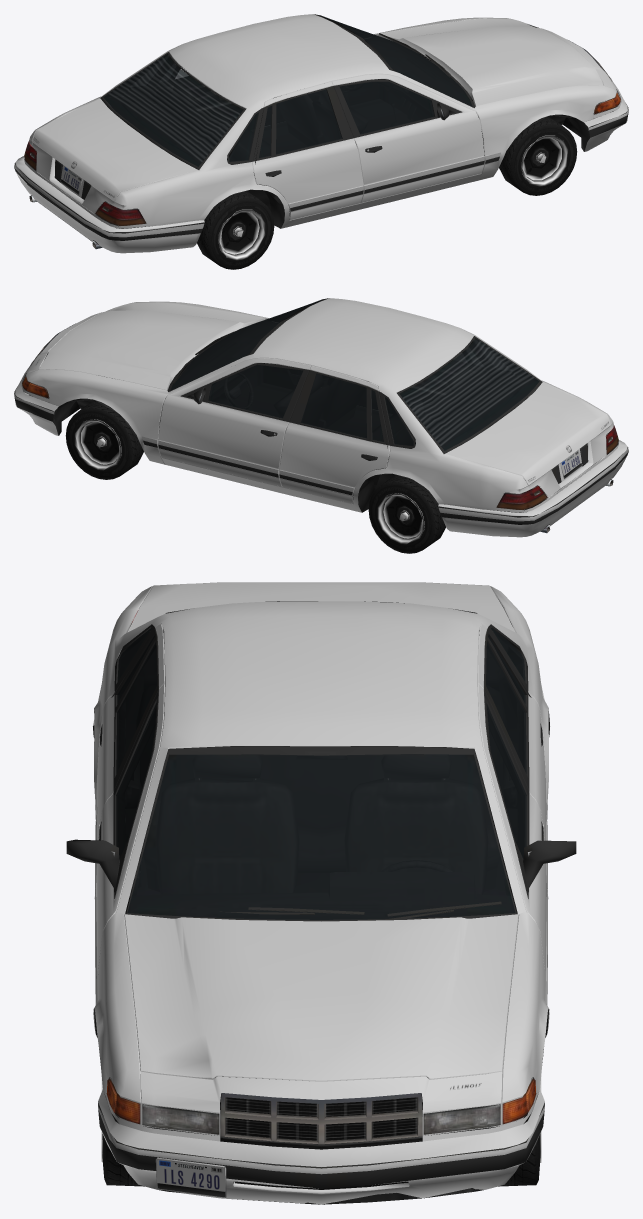
The model's file is car_illinois.glb.
The picture shows the model from 3 angles, top to bottom: view 1: azimuth 30°, elevation 25°; view 2: azimuth 150°, elevation 25°; view 3: azimuth 270°, elevation 25°; orthographic projection. The views are drawn at different scales.
Visible parts, largest first — view 1: Illinois90_Body_Illinois90_Bodymat_0, Illinois90_Headlights_Glass_UCB_Lights_and_Glass_Transperent, Illinois90_Interior_UCB_Interiors_2_0, Illinois90_SUSPENSION_UCB_BOTTOM_0, Illinois90_WheelStock_FL_RB1c_Tire_1k_0, Illinois90_Headlights_UCB_Lights_and_Glass_0, Illinois90_Trunkdoor_Numberplates_Numberplates_Misk_U_0; view 2: Illinois90_Body_Illinois90_Bodymat_0, Illinois90_Headlights_Glass_UCB_Lights_and_Glass_Transperent, Illinois90_Interior_UCB_Interiors_2_0, Illinois90_SUSPENSION_UCB_BOTTOM_0, Illinois90_WheelStock_FL_RB1c_Tire_1k_0, Illinois90_Headlights_UCB_Lights_and_Glass_0, Illinois90_Trunkdoor_Numberplates_Numberplates_Misk_U_0; view 3: Illinois90_Body_Illinois90_Bodymat_0, Illinois90_Headlights_Glass_UCB_Lights_and_Glass_Transperent, Illinois90_Interior_UCB_Interiors_2_0, Illinois90_SUSPENSION_UCB_BOTTOM_0, Illinois90_Headlights_UCB_Lights_and_Glass_0, Illinois90_Trunkdoor_Numberplates_Numberplates_Misk_U_0, Illinois90_WheelStock_FL_RB1c_Tire_1k_0.
Part boxes in pixels (bbox=[...]): Illinois90_Body_Illinois90_Bodymat_0: bbox=[15, 14, 627, 253]; Illinois90_Headlights_Glass_UCB_Lights_and_Glass_Transperent: bbox=[24, 15, 620, 225]; Illinois90_Interior_UCB_Interiors_2_0: bbox=[104, 15, 471, 215]; Illinois90_SUSPENSION_UCB_BOTTOM_0: bbox=[14, 14, 628, 249]; Illinois90_WheelStock_FL_RB1c_Tire_1k_0: bbox=[197, 116, 577, 269]; Illinois90_Headlights_UCB_Lights_and_Glass_0: bbox=[25, 93, 620, 225]; Illinois90_Trunkdoor_Numberplates_Numberplates_Misk_U_0: bbox=[60, 166, 82, 194]; Illinois90_Body_Illinois90_Bodymat_0: bbox=[15, 298, 627, 537]; Illinois90_Headlights_Glass_UCB_Lights_and_Glass_Transperent: bbox=[22, 299, 618, 509]; Illinois90_Interior_UCB_Interiors_2_0: bbox=[171, 299, 538, 499]; Illinois90_SUSPENSION_UCB_BOTTOM_0: bbox=[14, 298, 628, 533]; Illinois90_WheelStock_FL_RB1c_Tire_1k_0: bbox=[65, 400, 445, 553]; Illinois90_Headlights_UCB_Lights_and_Glass_0: bbox=[22, 377, 617, 509]; Illinois90_Trunkdoor_Numberplates_Numberplates_Misk_U_0: bbox=[560, 450, 582, 478]; Illinois90_Body_Illinois90_Bodymat_0: bbox=[93, 582, 549, 1204]; Illinois90_Headlights_Glass_UCB_Lights_and_Glass_Transperent: bbox=[106, 628, 536, 1134]; Illinois90_Interior_UCB_Interiors_2_0: bbox=[118, 630, 524, 919]; Illinois90_SUSPENSION_UCB_BOTTOM_0: bbox=[66, 599, 576, 1204]; Illinois90_Headlights_UCB_Lights_and_Glass_0: bbox=[108, 611, 534, 1133]; Illinois90_Trunkdoor_Numberplates_Numberplates_Misk_U_0: bbox=[155, 1157, 226, 1197]; Illinois90_WheelStock_FL_RB1c_Tire_1k_0: bbox=[101, 1077, 541, 1186].
Bounding box in the file's own units: 5.17 × 1.43 × 2.08.
8 materials, 7 textured.
